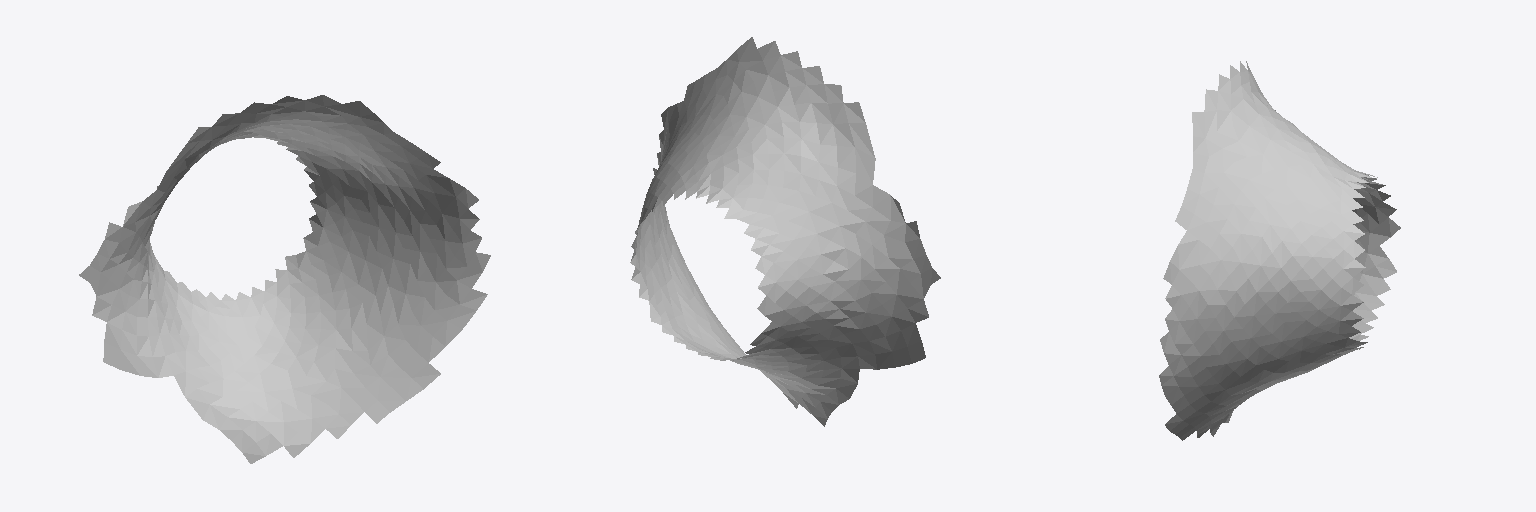
Rendered from flower3_opt_quad.obj.
3 views of the same model, side by side, from view 1: azimuth 30°, elevation 25°; view 2: azimuth 150°, elevation 25°; view 3: azimuth 270°, elevation 25° (orthographic).
Bounding box in the file's own units: 17.09 × 16.97 × 10.23.